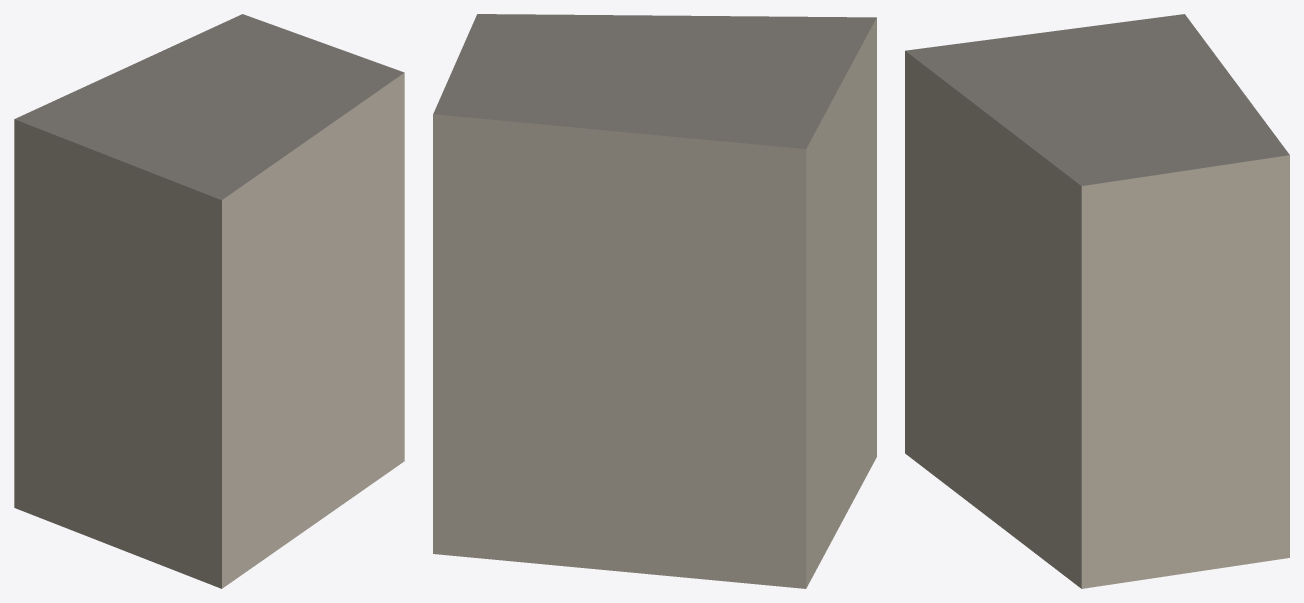
3 renders of one model, left to right at view 1: azimuth 30°, elevation 25°; view 2: azimuth 150°, elevation 25°; view 3: azimuth 270°, elevation 25°, orthographic. The views are drawn at different scales.
Visible parts, largest first — view 1: HP-w1198568468; view 2: HP-w1198568468; view 3: HP-w1198568468.
Part boxes in pixels (box(x1,y1,x2,y2)): HP-w1198568468: box(14, 14, 404, 588); HP-w1198568468: box(433, 14, 876, 588); HP-w1198568468: box(905, 14, 1289, 588).
Bounding box in the file's own units: 16.5 × 18 × 15.59.
